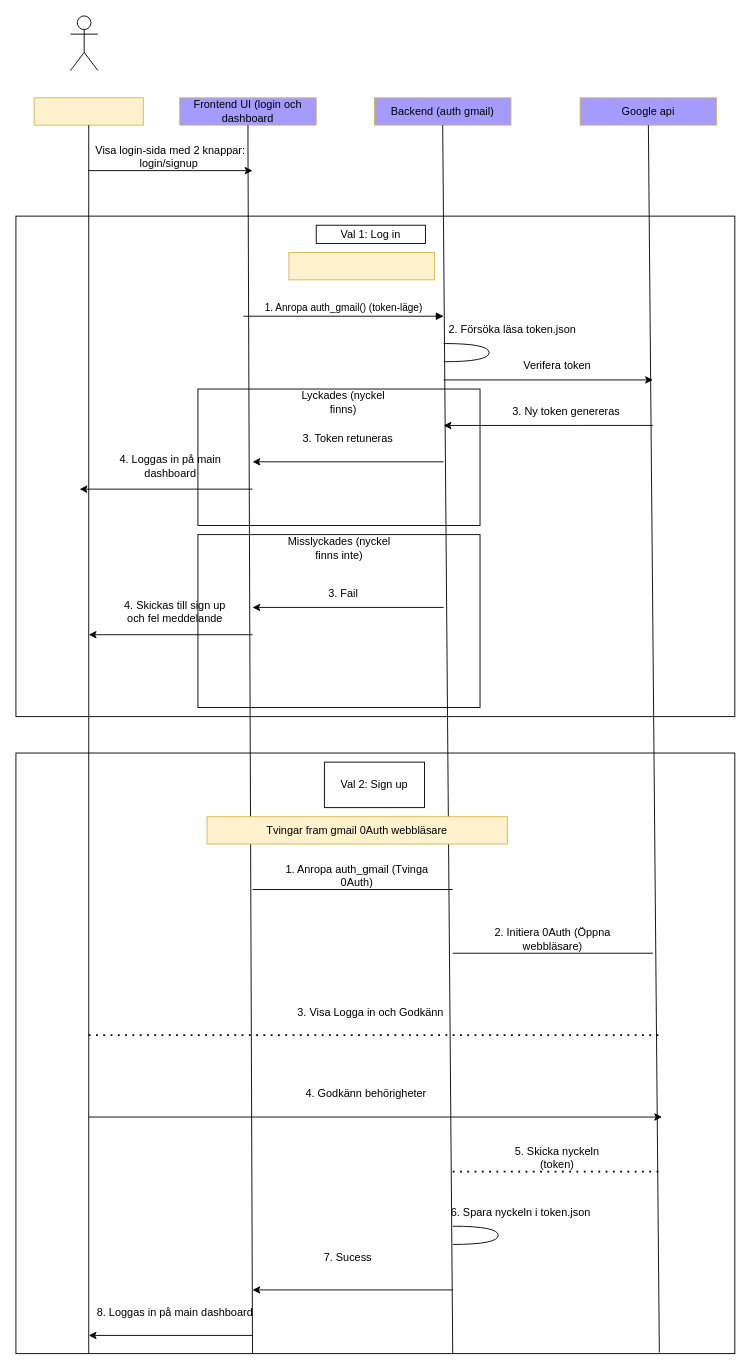
Some shapes in this 751 by 1370 pixel diagram are drawn without their labels. The centre of each missing label's shape, as x and y in pixels:
Applikationen startar: the point at 88,111
Testar token inloggning: the point at 361,266
User: the point at 84,43
